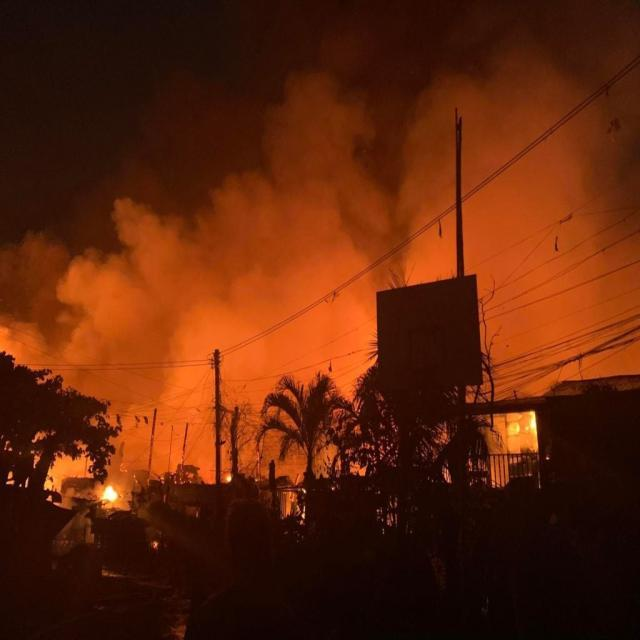Smoke: (11, 183, 373, 386), (465, 15, 640, 397)
